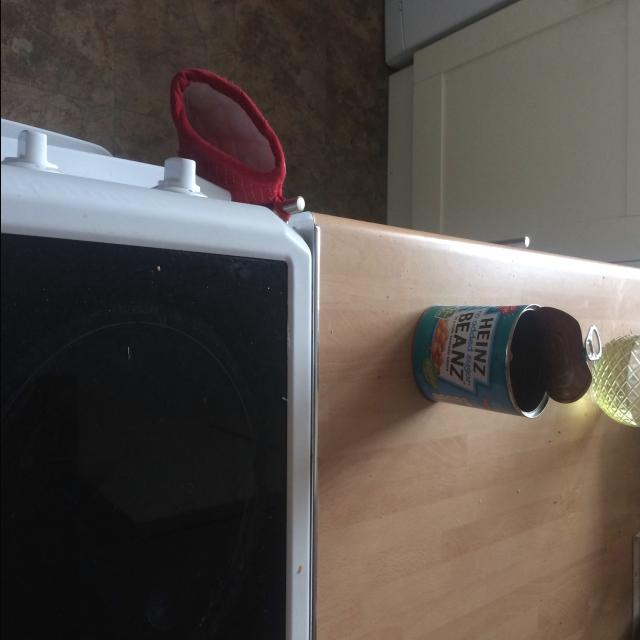Food Can: (410, 304, 601, 418)
Glass cup: (590, 335, 640, 427)
Pop tab: (583, 325, 601, 361)
